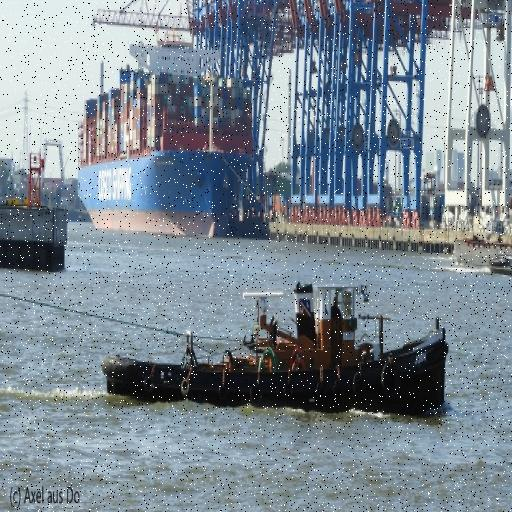tugboat: (96, 275, 455, 429)
